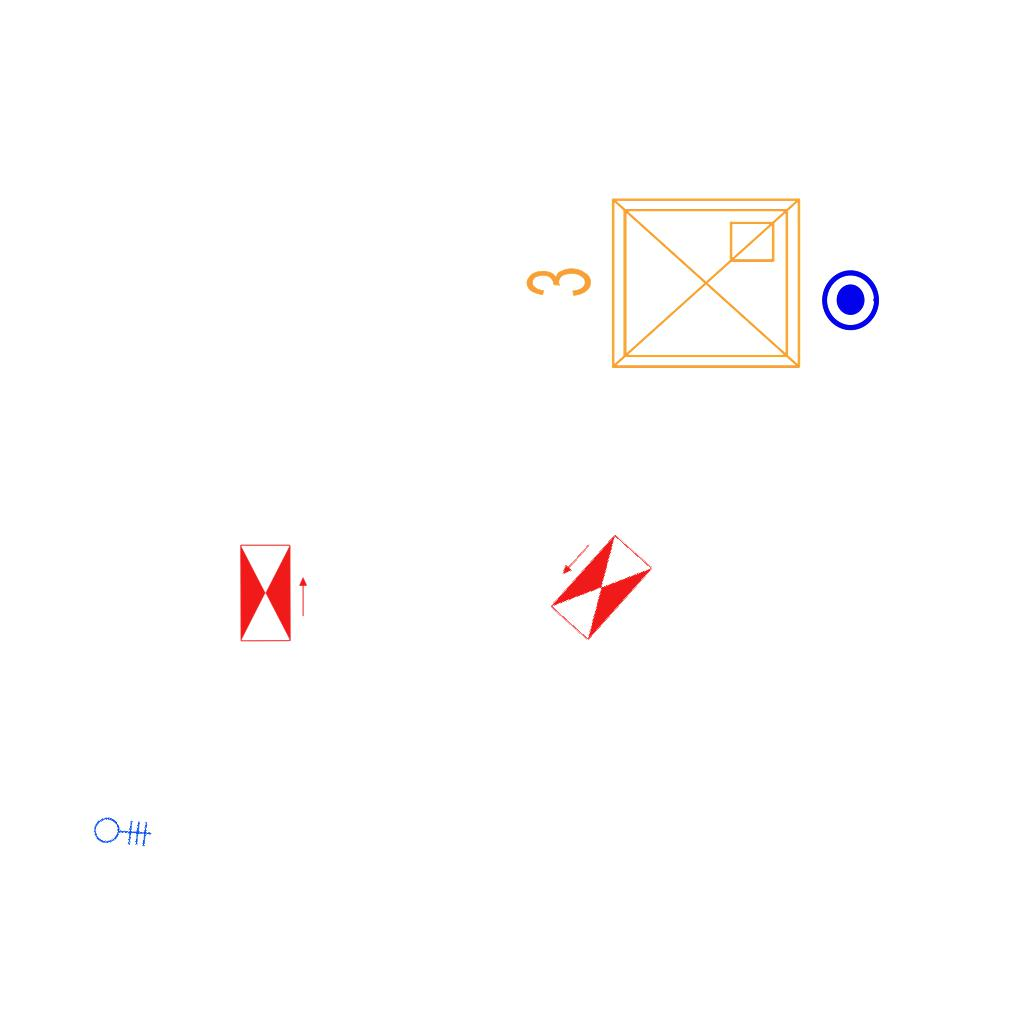Einbaudownlights_LED_Konferenzraeume: (515, 183, 815, 391)
Elektroanschluss_allgemein_400V_Geraeteanschlussdose_400V: (82, 786, 164, 868)
Fluchtwegpiktogramm: (533, 518, 658, 646), (237, 541, 310, 645)
Taster: (820, 267, 886, 333)
